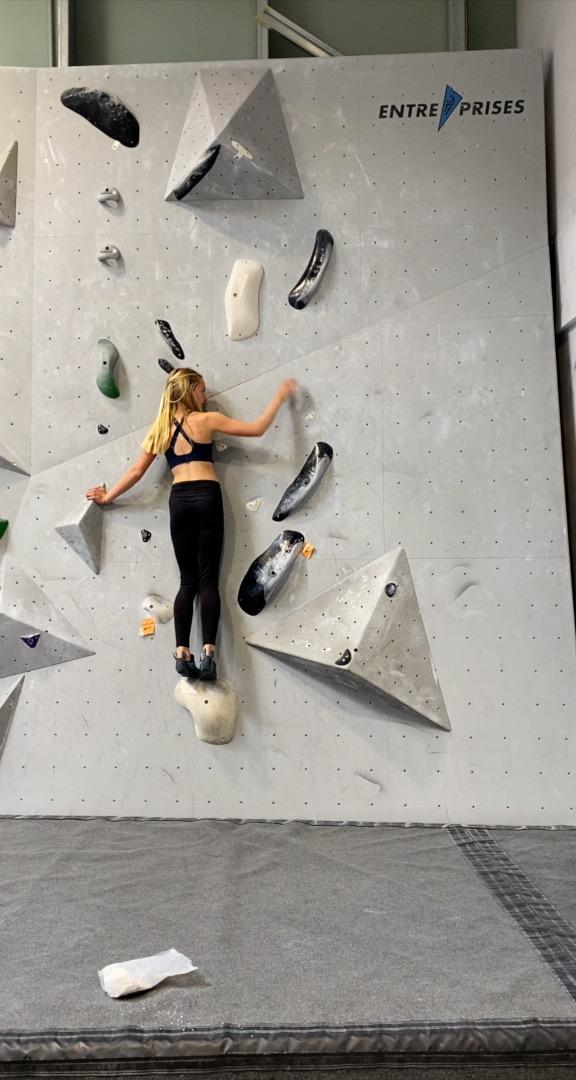holds: (236, 528, 306, 618), (60, 85, 141, 149), (271, 441, 334, 523), (173, 673, 241, 746), (287, 227, 335, 311), (223, 258, 265, 341), (172, 143, 222, 202), (95, 336, 122, 400), (153, 318, 186, 360), (141, 595, 176, 626), (157, 357, 183, 380), (96, 242, 121, 262), (231, 139, 254, 160), (96, 185, 121, 204), (19, 632, 42, 649), (334, 647, 353, 667), (245, 497, 263, 513), (383, 582, 399, 599), (139, 528, 153, 543), (214, 440, 228, 453), (97, 423, 109, 435), (304, 412, 317, 423)
